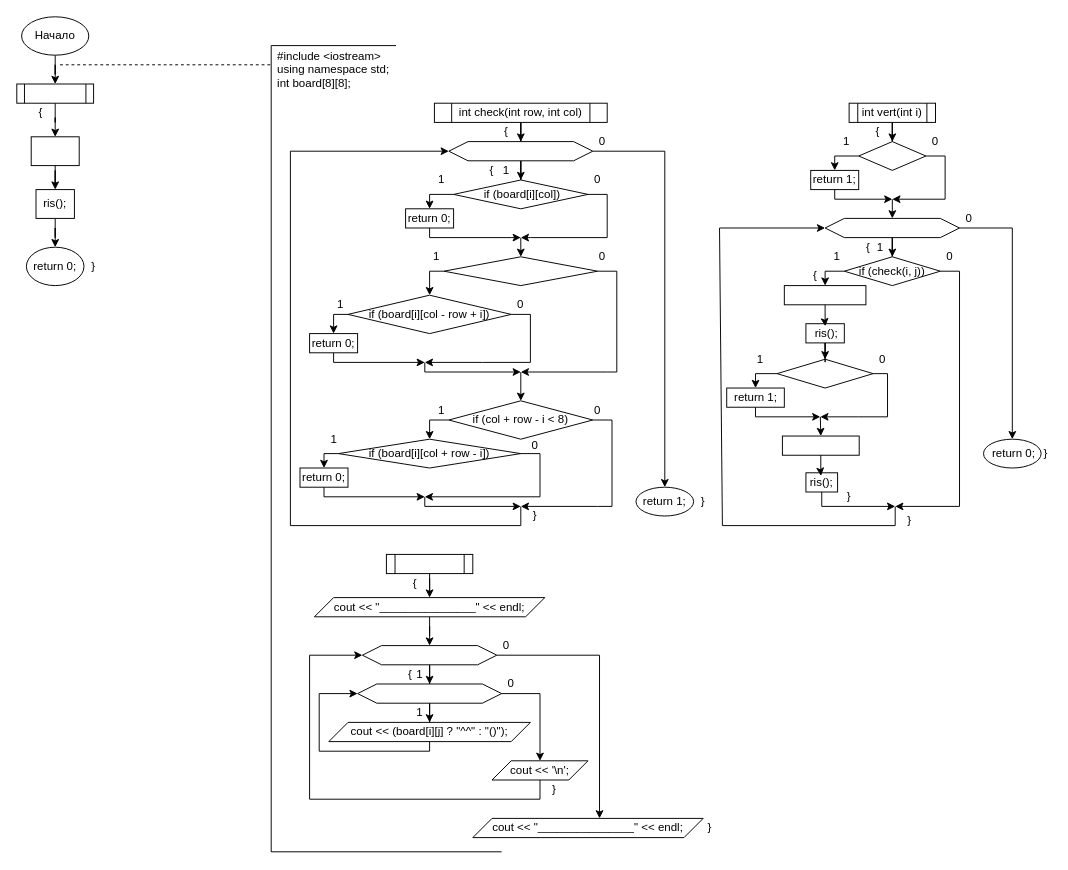
This 1068x870 diagram has some shape labels left out. Here are the shapes that lost their labels. From the top down, the box of each, then its label:
(16, 83, 94, 103): int main()
(30, 136, 79, 166): vert(0);
(448, 141, 593, 161): for (int i = 0; i < row; ++i)
(858, 141, 926, 170): if (i == 8)
(824, 217, 960, 238): for (int j = 0; j < 8; ++j)
(443, 256, 598, 286): if (col - row + i >= 0)
(783, 285, 866, 305): board[i][j] = 1;
(776, 358, 873, 388): if (vert(i + 1))
(781, 435, 859, 455): board[i][j] = 0;
(385, 553, 473, 574): void ris()
(361, 645, 497, 665): for (int i = 0; i < 8; i++)
(357, 683, 502, 703): for (int j = 0; j < 8; j++)
